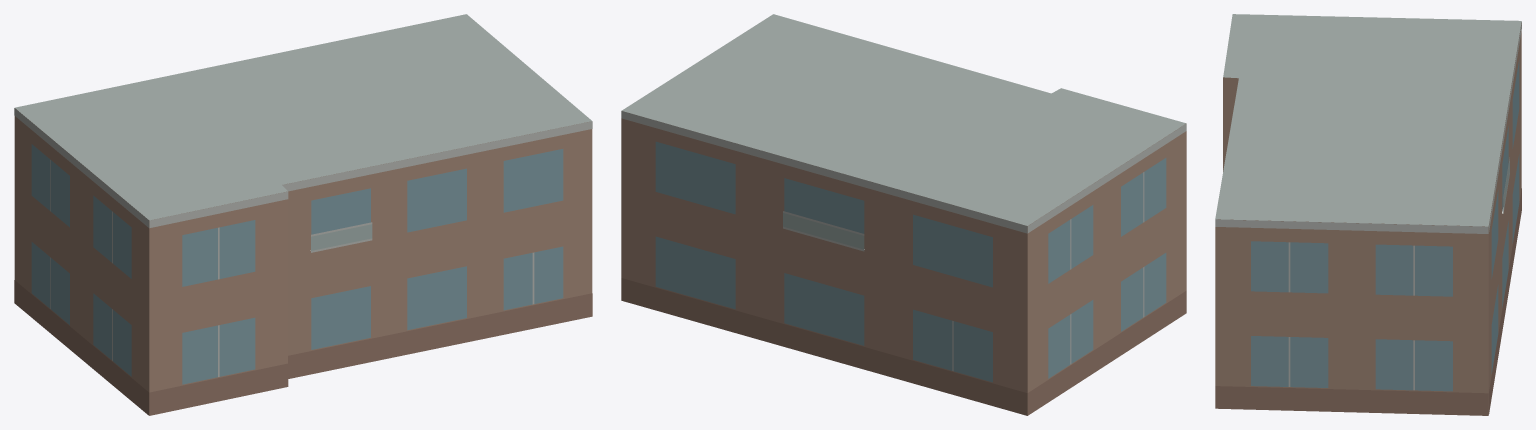
The model's file is survey-upis-32763015.glb.
The picture shows the model from 3 angles, left to right: view 1: azimuth 30°, elevation 25°; view 2: azimuth 150°, elevation 25°; view 3: azimuth 270°, elevation 25°; orthographic projection. The views are drawn at different scales.
Parts seen in each view (by area): view 1: survey-upis-32763015.tmp; view 2: survey-upis-32763015.tmp; view 3: survey-upis-32763015.tmp.
Part boxes in pixels (left/top/right/bottom): survey-upis-32763015.tmp: left=14, top=14, right=592, bottom=415; survey-upis-32763015.tmp: left=621, top=14, right=1186, bottom=415; survey-upis-32763015.tmp: left=1215, top=14, right=1521, bottom=415.
Bounding box in the file's own units: 14.7 × 6.1 × 8.96.
